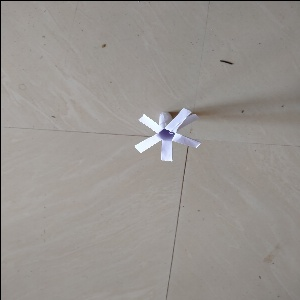weed: (133, 106, 202, 162)
